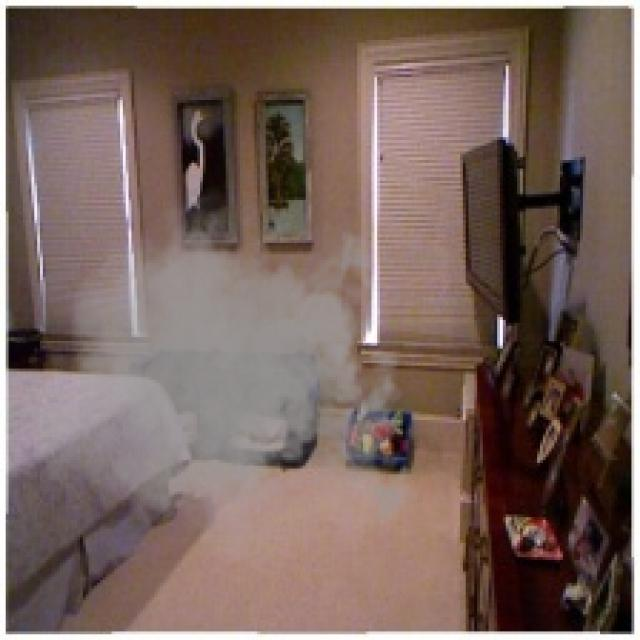smoke: (28, 171, 423, 583)
